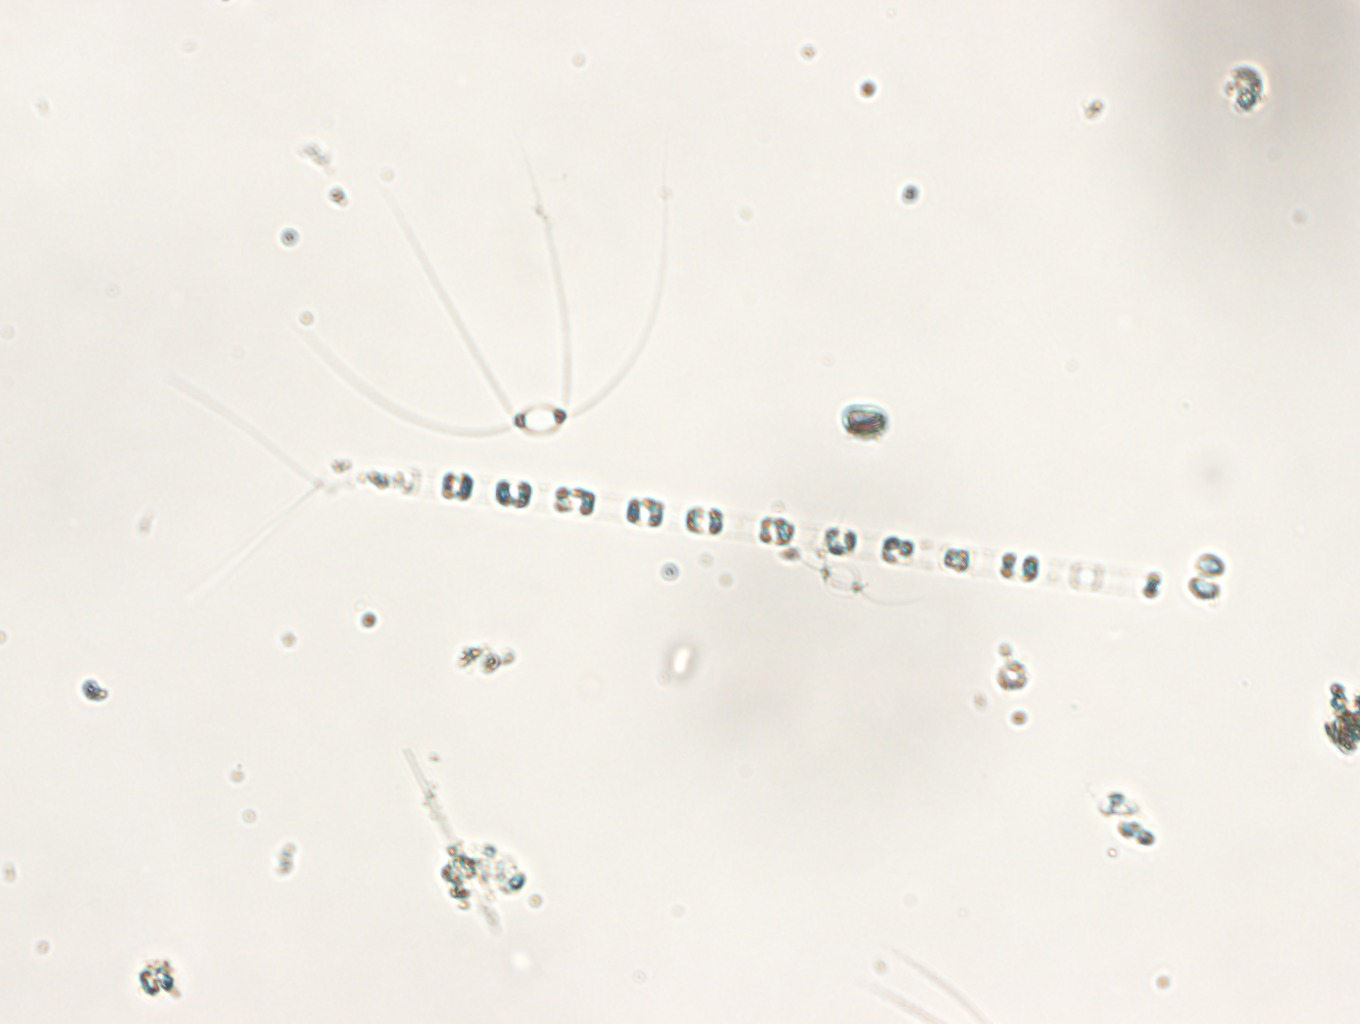chaetoceros: (327, 155, 673, 436)
skeletonema: (359, 465, 1111, 592)
